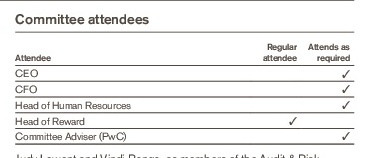table: (0, 0, 368, 158)
